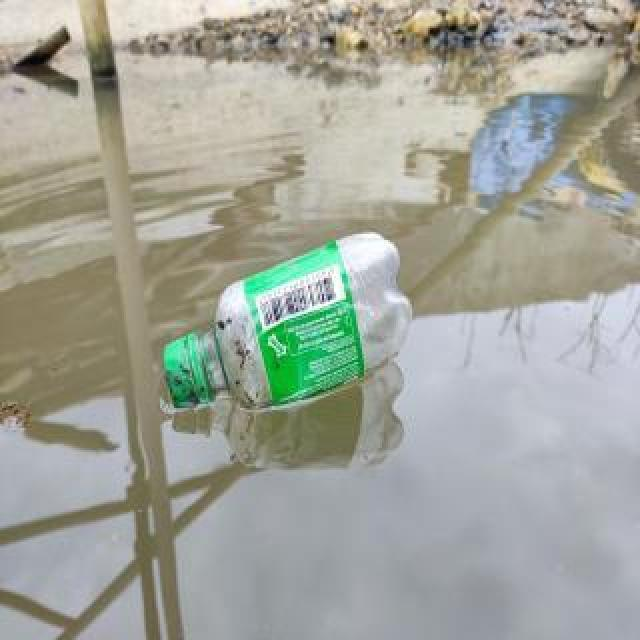bottle: (160, 227, 414, 417)
